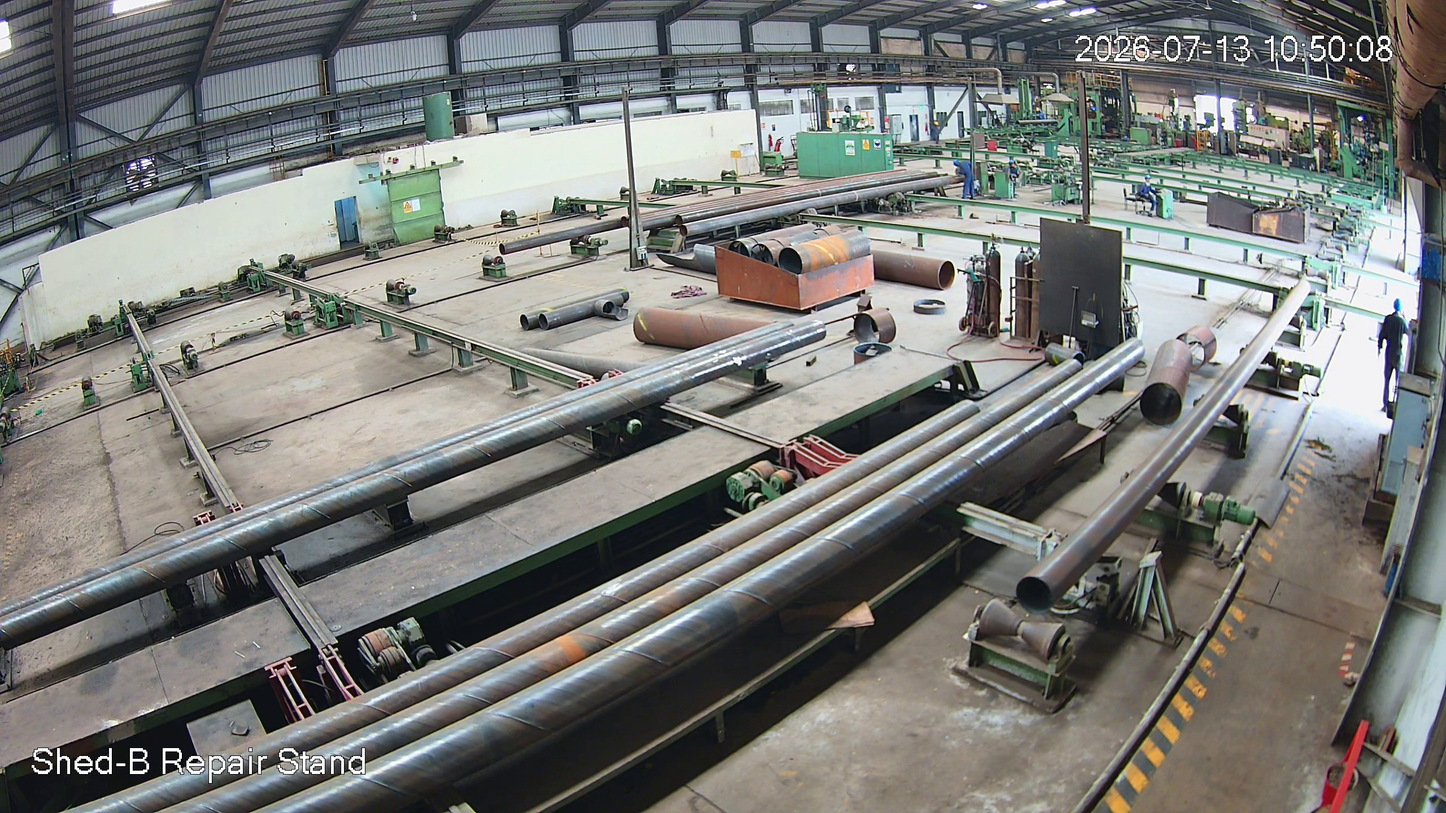Helmet: (1391, 298, 1405, 318)
Person: (1378, 300, 1406, 415)
